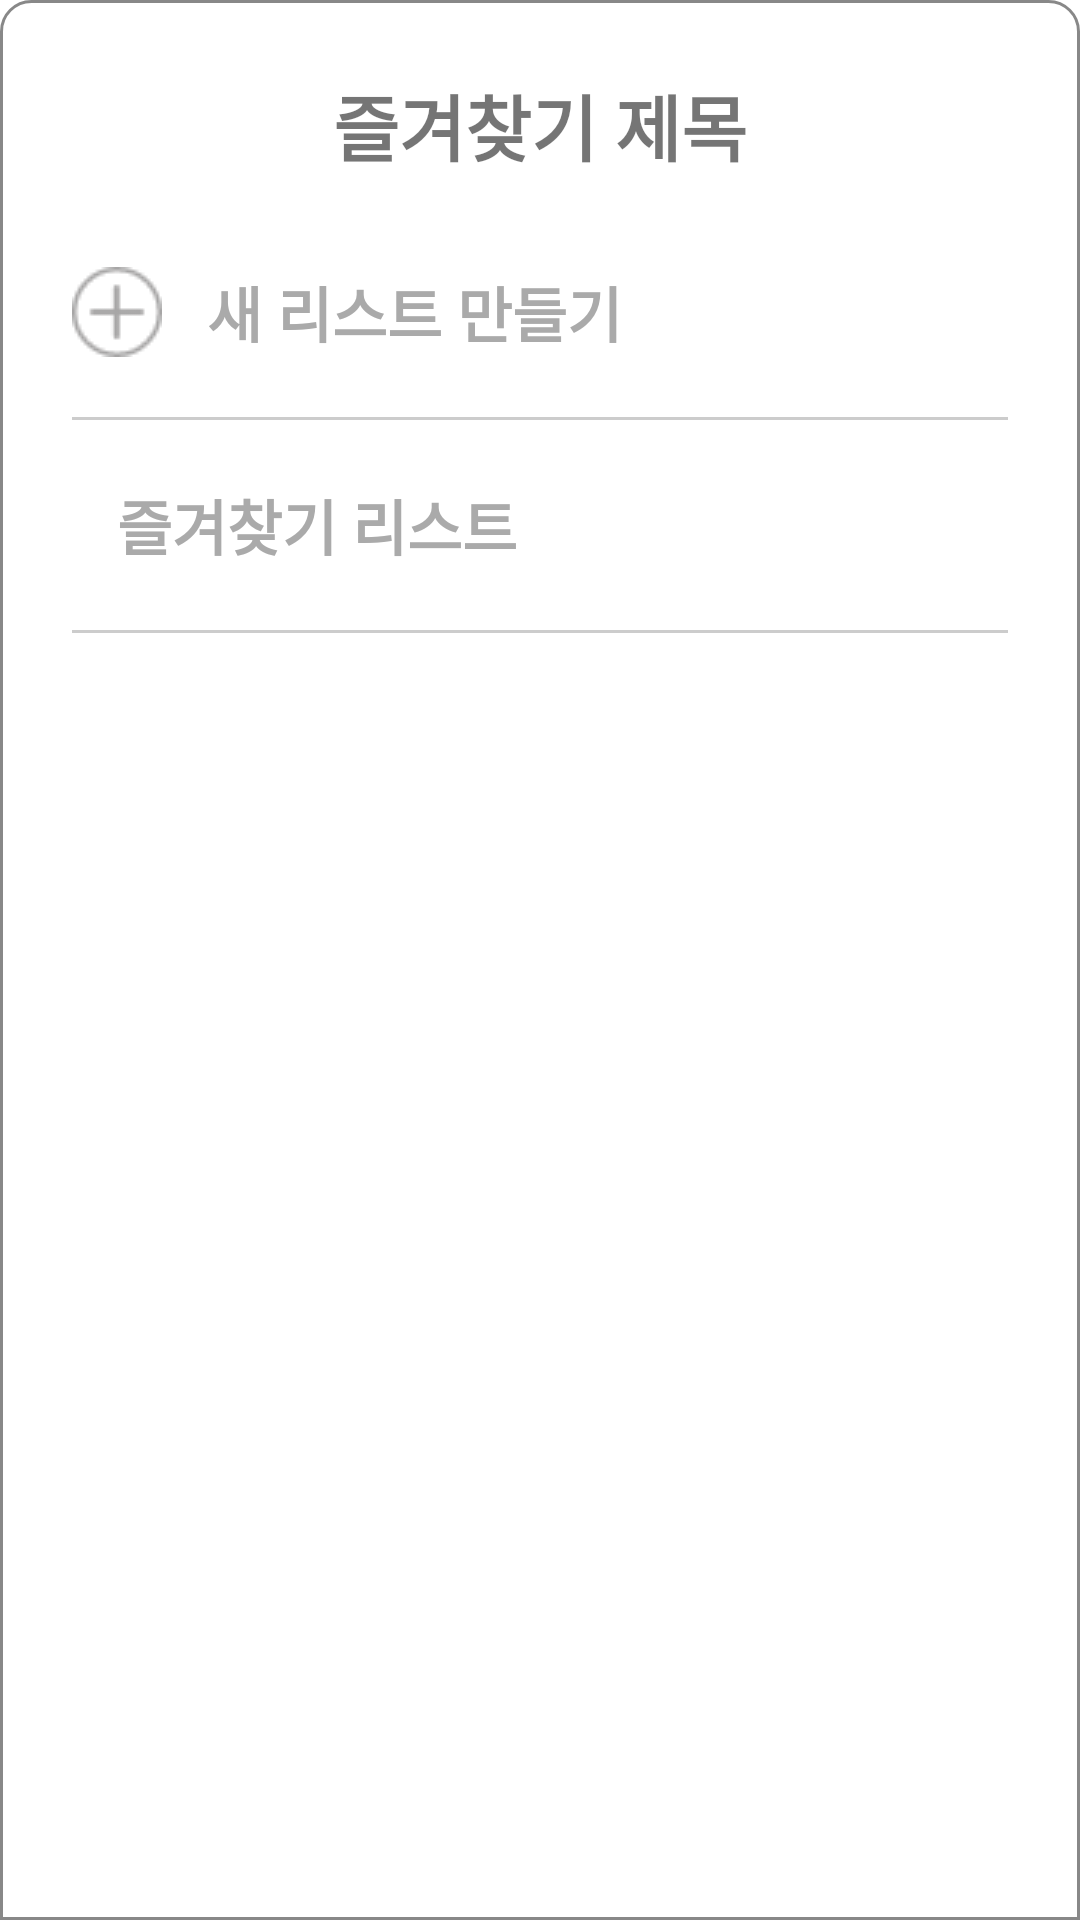

Locate icon controls on the screen. Image size 1080×1920, boxes as (x1, y1, x2, y2).
search addition: (72, 267, 162, 357)
